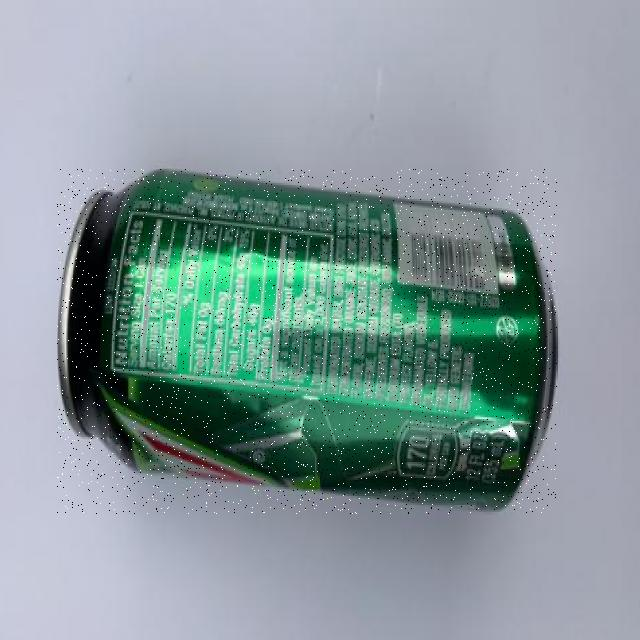metal: (58, 170, 557, 514)
